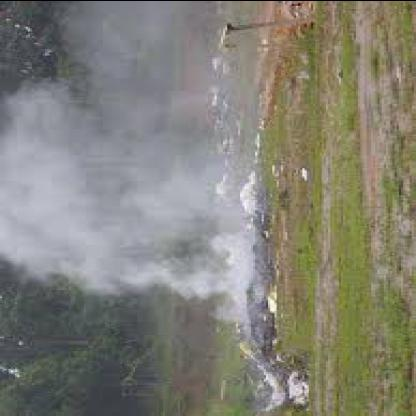Smoke: (2, 10, 254, 310)
